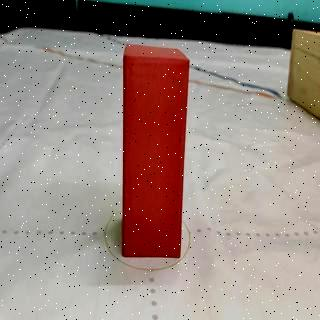redbox: (122, 42, 188, 259)
